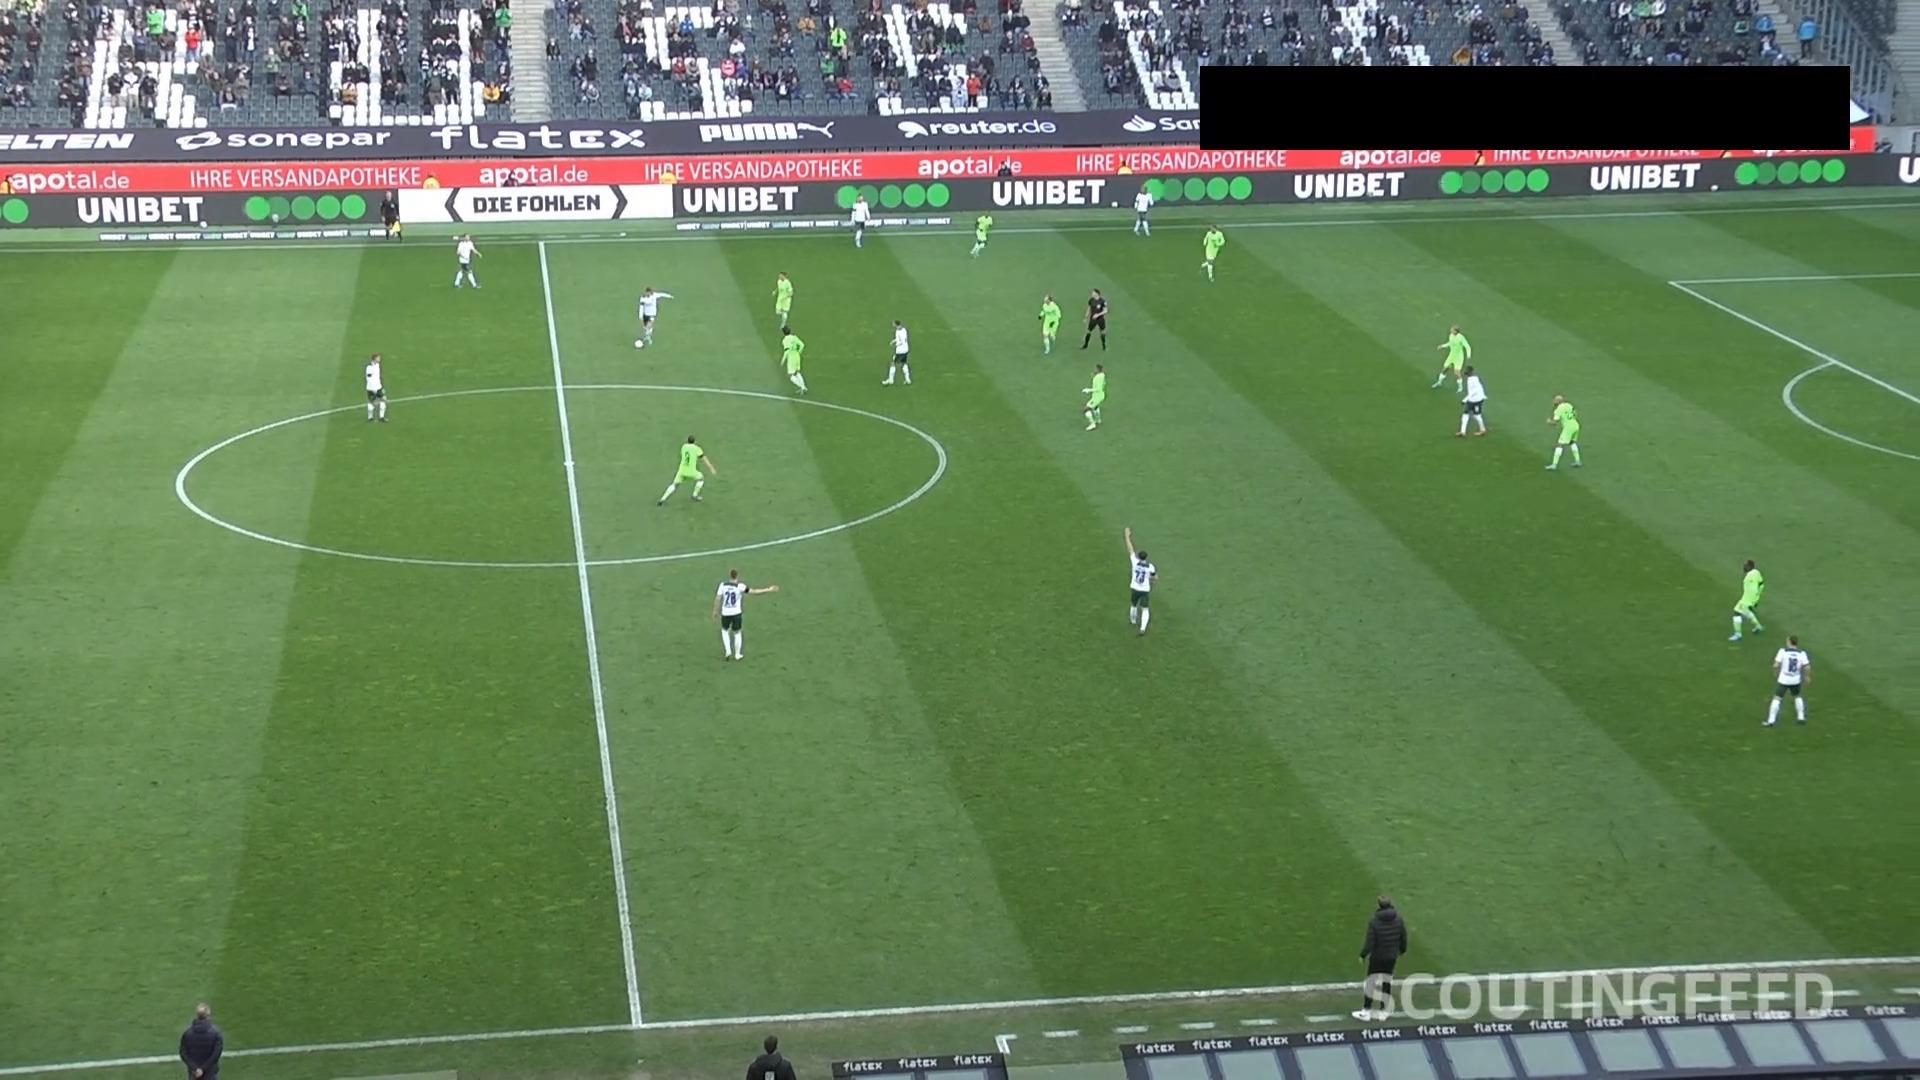ball: (633, 339, 645, 351)
